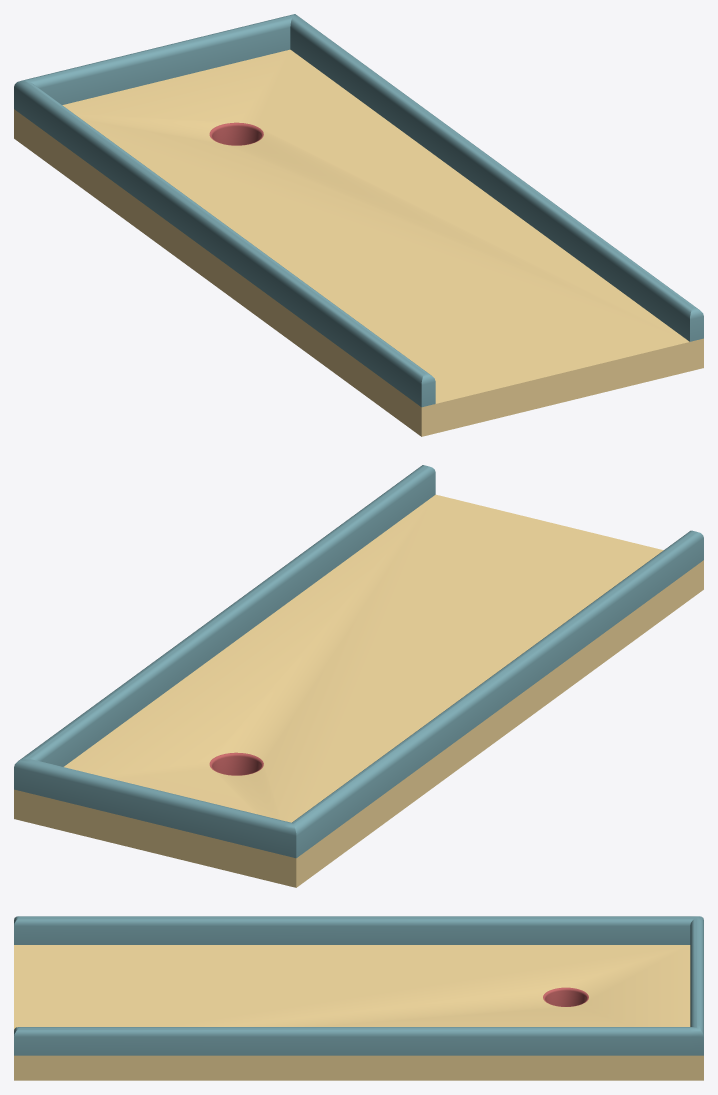
File: GolfTrack2.fbx
The picture shows the model from 3 angles, top to bottom: view 1: azimuth 30°, elevation 25°; view 2: azimuth 150°, elevation 25°; view 3: azimuth 270°, elevation 25°; orthographic projection. The views are drawn at different scales.
Parts seen in each view (by area): view 1: GolfTrack.002; view 2: GolfTrack.002; view 3: GolfTrack.002.
Part boxes in pixels (left/top/right/bottom): GolfTrack.002: left=14, top=14, right=703, bottom=436; GolfTrack.002: left=14, top=465, right=703, bottom=887; GolfTrack.002: left=14, top=916, right=703, bottom=1080.
Size of the model in its own units: 100 by 20 by 250.
